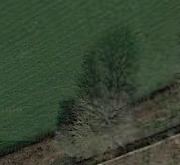tree: (54, 93, 131, 161)
